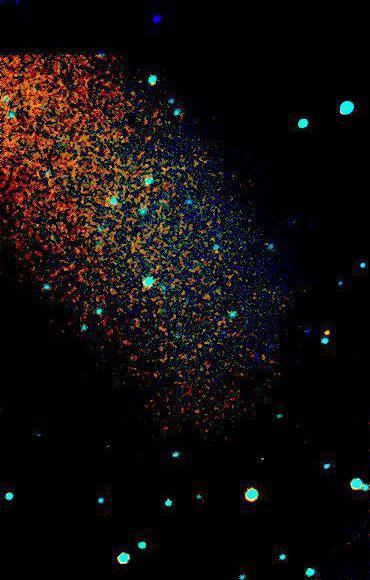star: (312, 319, 342, 349)
